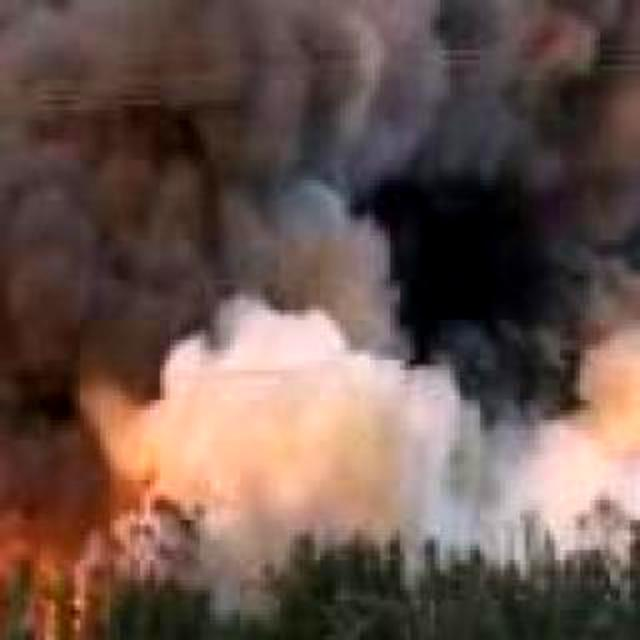smoke: (0, 0, 640, 601)
